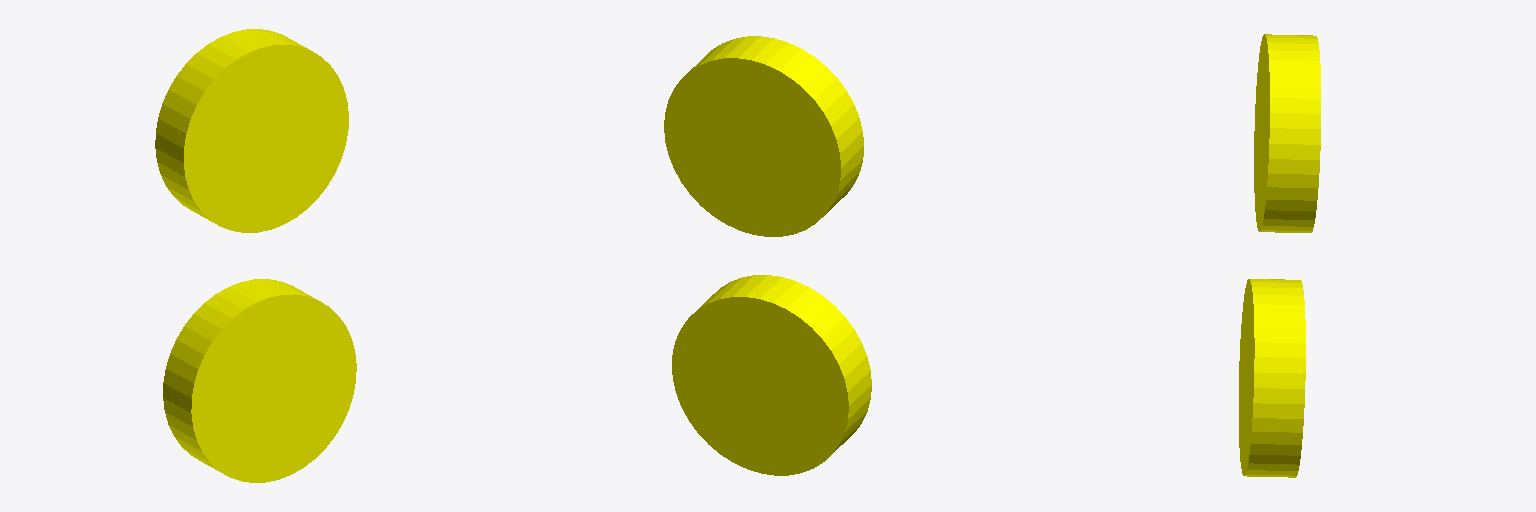
File: sign28.obj
The picture shows the model from 3 angles: view 1: azimuth 30°, elevation 25°; view 2: azimuth 150°, elevation 25°; view 3: azimuth 270°, elevation 25°; orthographic projection.
Visible parts, largest first — view 1: pCylinder1, pCylinder2; view 2: pCylinder1, pCylinder2; view 3: pCylinder1, pCylinder2.
Boxes of the visible parts, <box> form: pCylinder1: <box>163,279,356,482</box>; pCylinder2: <box>155,29,348,232</box>; pCylinder1: <box>672,275,871,475</box>; pCylinder2: <box>664,36,863,236</box>; pCylinder1: <box>1239,279,1305,477</box>; pCylinder2: <box>1254,34,1320,232</box>.
Size of the model in its own units: 2.03 by 4.75 by 0.836.